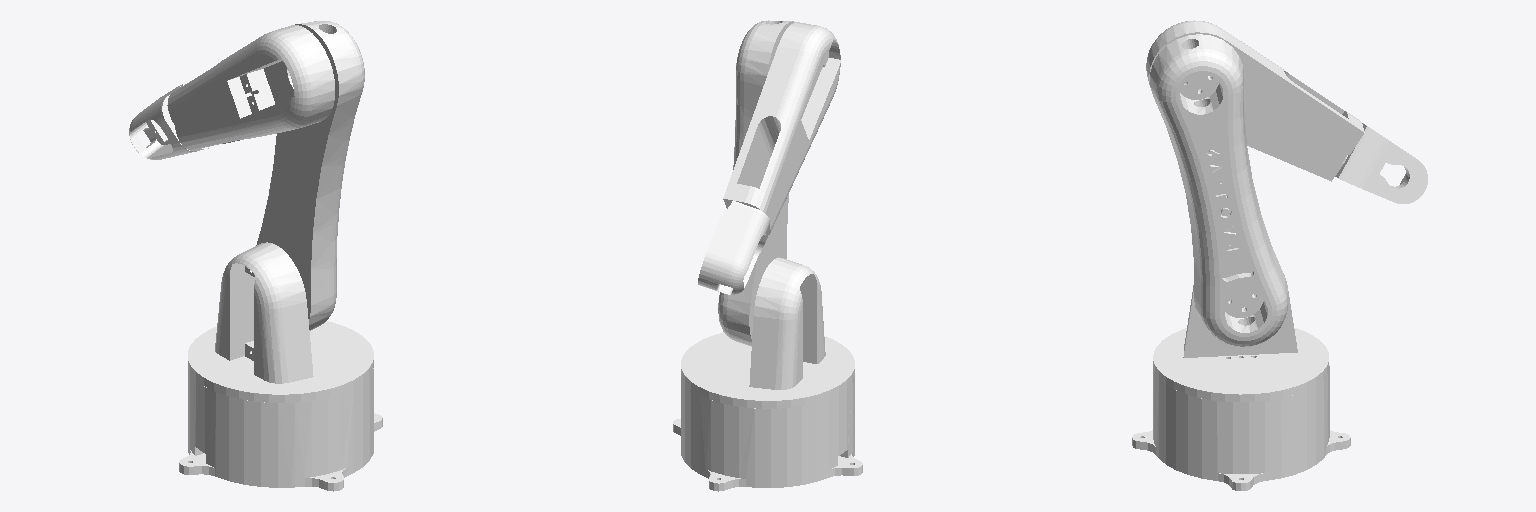
robot.urdf — URDF:
<?xml version="1.0" encoding="utf-8"?>
<!-- This URDF was automatically created by SolidWorks to URDF Exporter! Originally created by Stephen Brawner (brawner@gmail.com) 
     Commit Version: 1.6.0-4-g7f85cfe  Build Version: 1.6.7995.38578
     For more information, please see http://wiki.ros.org/sw_urdf_exporter -->
<robot
  name="URDF">
  <link
    name="base_link">
    <inertial>
      <origin
        xyz="0.0303994462788918 0.0505781154463316 0.080226794873787"
        rpy="0 0 0" />
      <mass
        value="0.093991528357274" />
      <inertia
        ixx="0.000114117470960472"
        ixy="-1.35284302533612E-06"
        ixz="-1.9770437731118E-13"
        iyy="0.000197768588984219"
        iyz="-1.91153632821832E-13"
        izz="0.000124427257958152" />
    </inertial>
    <visual>
      <origin
        xyz="0 0 0"
        rpy="0 0 0" />
      <geometry>
        <mesh
          filename="package://URDF/meshes/base_link.STL" />
      </geometry>
      <material
        name="">
        <color
          rgba="1 1 1 1" />
      </material>
    </visual>
    <collision>
      <origin
        xyz="0 0 0"
        rpy="0 0 0" />
      <geometry>
        <mesh
          filename="package://URDF/meshes/base_link.STL" />
      </geometry>
    </collision>
  </link>
  <link
    name="Cadera">
    <inertial>
      <origin
        xyz="-0.00705756789603888 0.0194229347811668 1.0381422349548E-07"
        rpy="0 0 0" />
      <mass
        value="0.0897213187915252" />
      <inertia
        ixx="7.72728720700264E-05"
        ixy="7.96790903926848E-06"
        ixz="2.77140502348455E-10"
        iyy="7.06954475493945E-05"
        iyz="-6.66096705173237E-11"
        izz="6.69370927398784E-05" />
    </inertial>
    <visual>
      <origin
        xyz="0 0 0"
        rpy="0 0 0" />
      <geometry>
        <mesh
          filename="package://URDF/meshes/Cadera.STL" />
      </geometry>
      <material
        name="">
        <color
          rgba="1 1 1 1" />
      </material>
    </visual>
    <collision>
      <origin
        xyz="0 0 0"
        rpy="0 0 0" />
      <geometry>
        <mesh
          filename="package://URDF/meshes/Cadera.STL" />
      </geometry>
    </collision>
  </link>
  <joint
    name="Cadera"
    type="continuous">
    <origin
      xyz="0.0295101387926066 -0.0802267950255822 0.0781521980886111"
      rpy="1.5707963267949 0 0.116377622859889" />
    <parent
      link="base_link" />
    <child
      link="Cadera" />
    <axis
      xyz="0 1 0" />
  </joint>
  <link
    name="Hombro">
    <inertial>
      <origin
        xyz="0.0700036422604383 0.0103084640466697 -3.23152675923977E-07"
        rpy="0 0 0" />
      <mass
        value="0.137984705772264" />
      <inertia
        ixx="3.08351171632929E-05"
        ixy="-3.36879663873519E-09"
        ixz="-9.25759597578585E-12"
        iyy="0.000431683375725049"
        iyz="3.51847335321236E-10"
        izz="0.000412927477359999" />
    </inertial>
    <visual>
      <origin
        xyz="0 0 0"
        rpy="0 0 0" />
      <geometry>
        <mesh
          filename="package://URDF/meshes/Hombro.STL" />
      </geometry>
      <material
        name="">
        <color
          rgba="1 1 1 1" />
      </material>
    </visual>
    <collision>
      <origin
        xyz="0 0 0"
        rpy="0 0 0" />
      <geometry>
        <mesh
          filename="package://URDF/meshes/Hombro.STL" />
      </geometry>
    </collision>
  </link>
  <joint
    name="Hombro"
    type="continuous">
    <origin
      xyz="0 0.0435500000000001 0"
      rpy="3.14159265358979 -0.181715761592176 1.5707963267949" />
    <parent
      link="Cadera" />
    <child
      link="Hombro" />
    <axis
      xyz="0 1 0" />
  </joint>
  <link
    name="Codo">
    <inertial>
      <origin
        xyz="-0.0316987644160682 0.0105785620141647 -0.000100526406123902"
        rpy="0 0 0" />
      <mass
        value="0.0803344877618634" />
      <inertia
        ixx="2.1257055605075E-05"
        ixy="8.16589731270934E-07"
        ixz="-2.54264871041912E-07"
        iyy="0.000117225689155703"
        iyz="1.05126943750736E-08"
        izz="0.000104519079487402" />
    </inertial>
    <visual>
      <origin
        xyz="0 0 0"
        rpy="0 0 0" />
      <geometry>
        <mesh
          filename="package://URDF/meshes/Codo.STL" />
      </geometry>
      <material
        name="">
        <color
          rgba="1 1 1 1" />
      </material>
    </visual>
    <collision>
      <origin
        xyz="0 0 0"
        rpy="0 0 0" />
      <geometry>
        <mesh
          filename="package://URDF/meshes/Codo.STL" />
      </geometry>
    </collision>
  </link>
  <joint
    name="Codo"
    type="fixed">
    <origin
      xyz="0.14 -0.00250000000000002 0"
      rpy="3.14159265358979 0.817268531088399 0" />
    <parent
      link="Hombro" />
    <child
      link="Codo" />
    <axis
      xyz="0 0 0" />
  </joint>
  <link
    name="Muneca">
    <inertial>
      <origin
        xyz="7.49205283292753E-05 -0.00408821128976836 0.0185117452916268"
        rpy="0 0 0" />
      <mass
        value="0.0202918223181184" />
      <inertia
        ixx="5.08525675875623E-06"
        ixy="-7.34034917704562E-10"
        ixz="1.65116016946345E-08"
        iyy="6.05810661929571E-06"
        iyz="3.95160070393794E-07"
        izz="2.95703941035696E-06" />
    </inertial>
    <visual>
      <origin
        xyz="0 0 0"
        rpy="0 0 0" />
      <geometry>
        <mesh
          filename="package://URDF/meshes/Muneca.STL" />
      </geometry>
      <material
        name="">
        <color
          rgba="1 1 1 1" />
      </material>
    </visual>
    <collision>
      <origin
        xyz="0 0 0"
        rpy="0 0 0" />
      <geometry>
        <mesh
          filename="package://URDF/meshes/Muneca.STL" />
      </geometry>
    </collision>
  </link>
  <joint
    name="Muneca"
    type="fixed">
    <origin
      xyz="-0.1057 0.0133155132115101 0.00021509764407554"
      rpy="1.57079632679489 -1.27933154954318 -1.57079632679489" />
    <parent
      link="Codo" />
    <child
      link="Muneca" />
    <axis
      xyz="0 0 0" />
  </joint>
</robot>

--- What the picture shows (computed from the rendered views, not written in the file) ---
The picture shows the robot from 3 angles, left to right: view 1: azimuth 30°, elevation 25°; view 2: azimuth 150°, elevation 25°; view 3: azimuth 270°, elevation 25°; orthographic projection.
Model URDF with 5 links and 4 joints (2 continuous, 2 fixed), rooted at base_link, posed every joint at zero.
Visible links, largest first — view 1: Cadera, base_link, Hombro, Codo, Muneca; view 2: Cadera, base_link, Codo, Hombro, Muneca; view 3: Hombro, base_link, Codo, Cadera, Muneca.
Link boxes in pixels (left/top/right/bottom): Cadera: left=188, top=242, right=373, bottom=402; base_link: left=179, top=368, right=382, bottom=491; Hombro: left=256, top=21, right=364, bottom=330; Codo: left=167, top=25, right=334, bottom=150; Muneca: left=129, top=83, right=196, bottom=159; Cadera: left=681, top=257, right=854, bottom=408; base_link: left=673, top=377, right=862, bottom=491; Codo: left=723, top=22, right=840, bottom=234; Hombro: left=718, top=20, right=794, bottom=346; Muneca: left=698, top=201, right=770, bottom=294; Hombro: left=1150, top=34, right=1287, bottom=346; base_link: left=1132, top=365, right=1350, bottom=490; Codo: left=1146, top=20, right=1364, bottom=181; Cadera: left=1153, top=275, right=1328, bottom=402; Muneca: left=1335, top=123, right=1427, bottom=203.
Bounding box of the posed robot: 0.124 × 0.1679 × 0.2582 m (x, y, z).
Meshes: 5 distinct files referenced, 5 mesh visuals loaded (5 binary STL).
